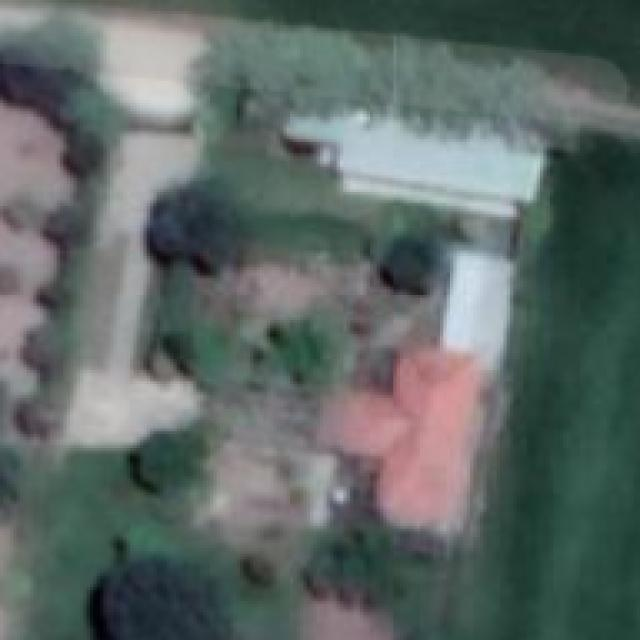Batiment: (283, 111, 543, 218), (335, 349, 485, 531)
